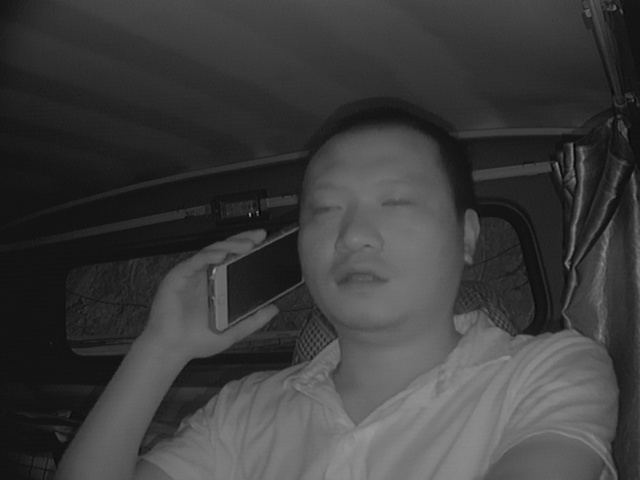hand: (155, 232, 279, 357)
